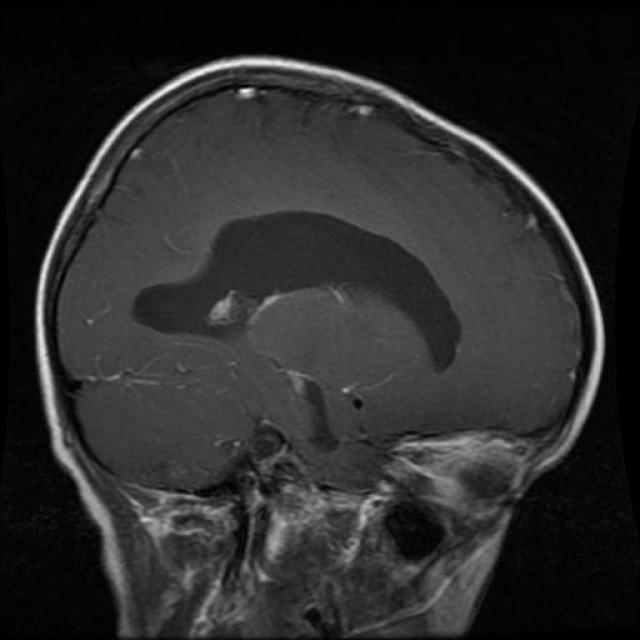glioma: (128, 208, 466, 376)
